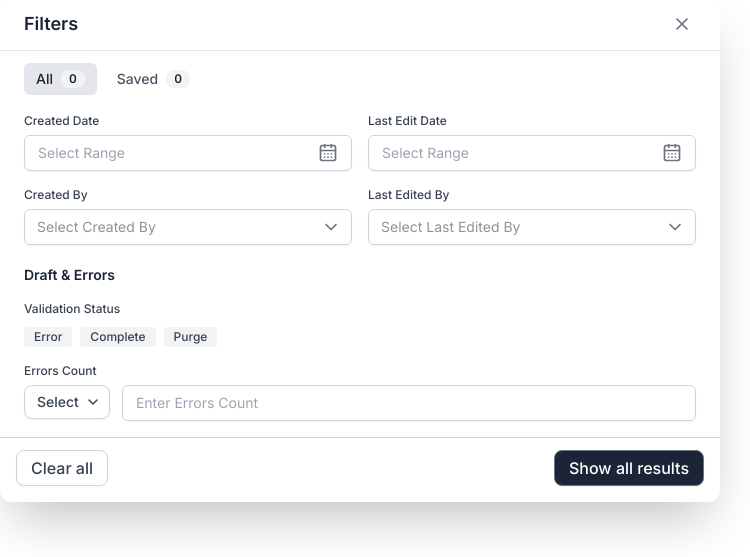
it: error count comparator (LINX-11659) › rejects decimals and zero inline
(page scrolled)
In the field with placeholder "Enter Errors Count": coordinates (409, 403) left=136, top=393, right=682, bottom=413, type "1.5"
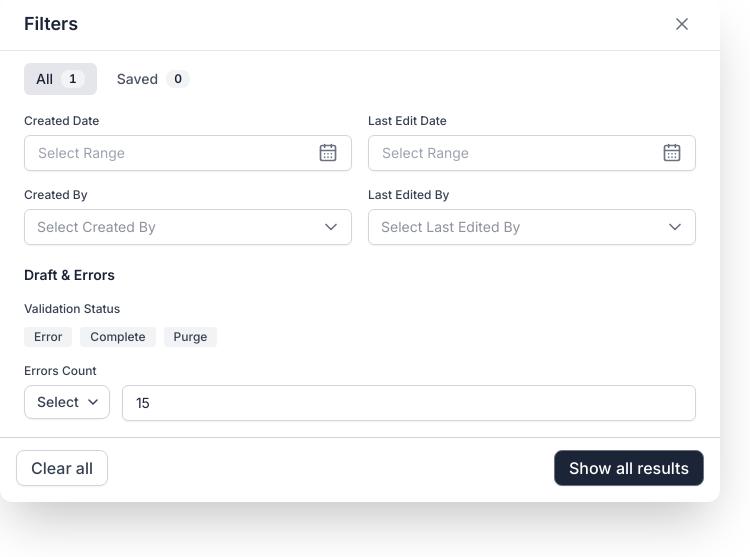
Now the field with placeholder "Enter Errors Count" holds "15"
Replace the text in the field with placeholder "Enter Errors Count" with "0": coordinates (409, 403) left=136, top=393, right=682, bottom=413
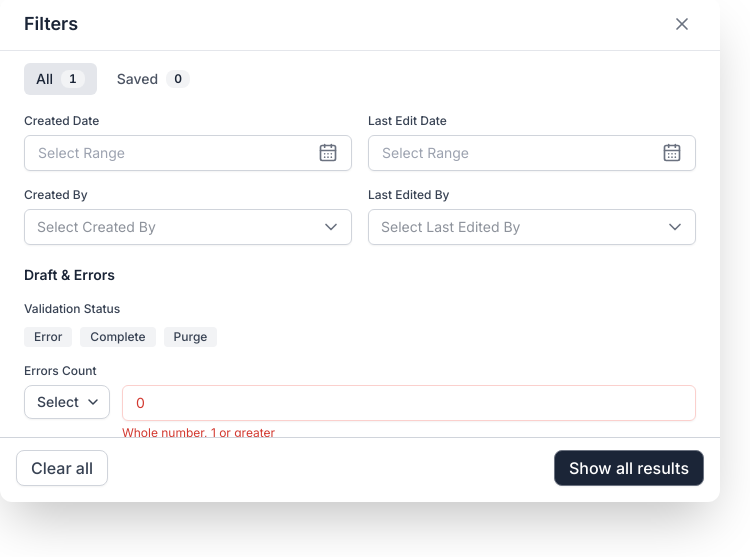
Now the text "Whole number, 1 or greater" is shown, box left=122, top=425, right=275, bottom=437
